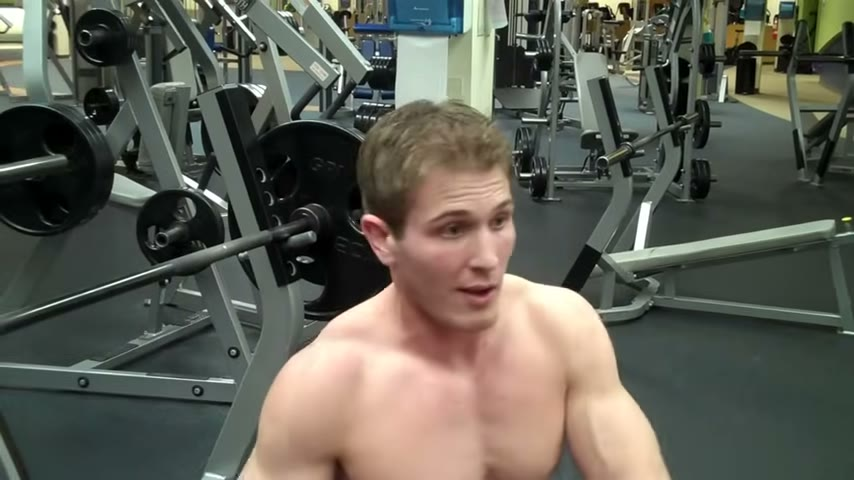barbell_plate_side: (0, 65, 128, 472)
